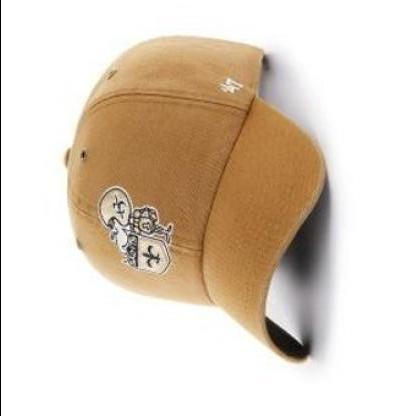cap: (52, 30, 333, 380)
